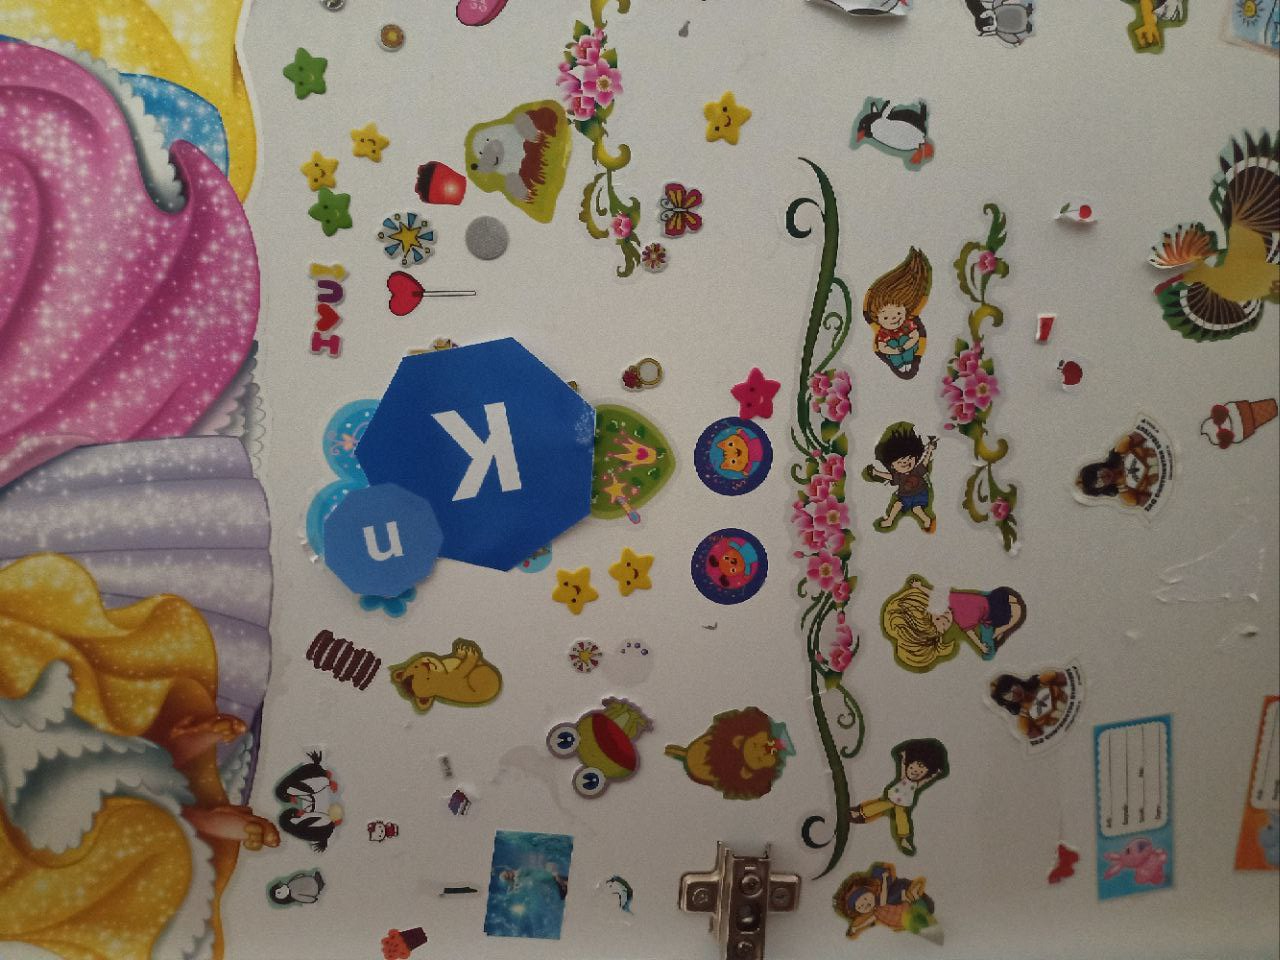knative: (321, 336, 595, 600)
